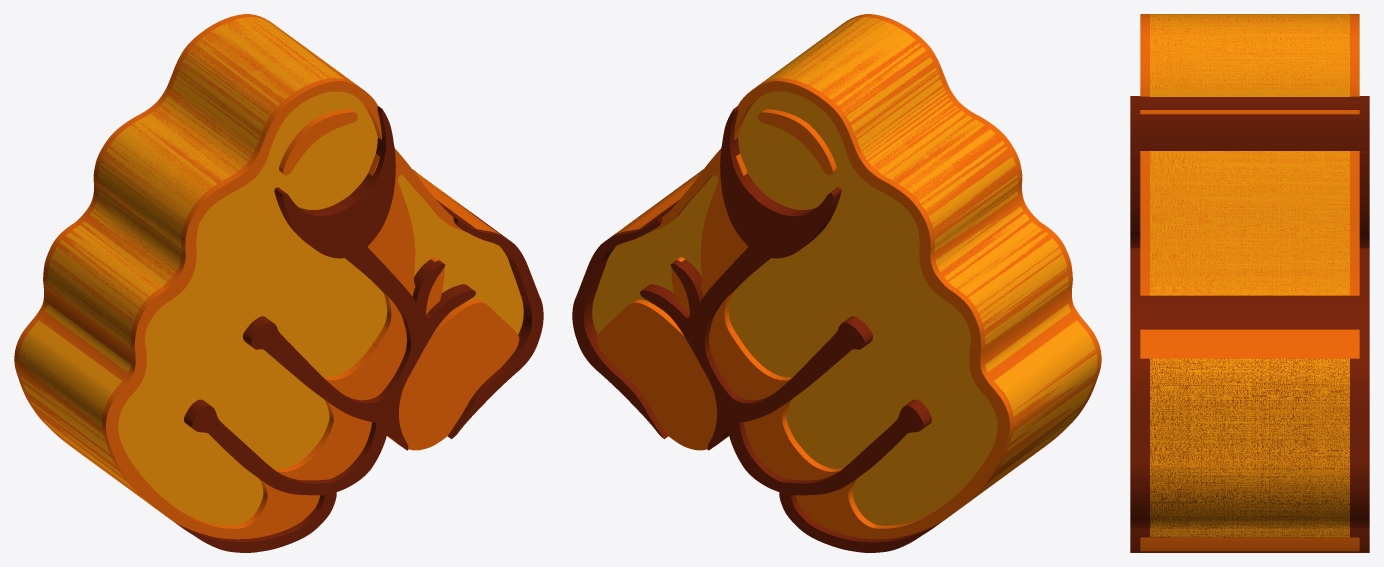
File: U+1FAF5.obj
The picture shows the model from 3 angles, left to right: view 1: azimuth 30°, elevation 25°; view 2: azimuth 150°, elevation 25°; view 3: azimuth 270°, elevation 25°; orthographic projection. The views are drawn at different scales.
Parts seen in each view (by area): view 1: U+1FAF5_layer00_obj00, U+1FAF5_layer01_obj00, U+1FAF5_layer02_obj01, U+1FAF5_layer02_obj00, U+1FAF5_layer01_obj01; view 2: U+1FAF5_layer00_obj00, U+1FAF5_layer01_obj00, U+1FAF5_layer02_obj01, U+1FAF5_layer02_obj00, U+1FAF5_layer01_obj01; view 3: U+1FAF5_layer00_obj00, U+1FAF5_layer02_obj00, U+1FAF5_layer01_obj00, U+1FAF5_layer02_obj01.
Part boxes in pixels (x1,y1,x2,y2): U+1FAF5_layer00_obj00: [18, 17, 523, 525]; U+1FAF5_layer01_obj00: [14, 14, 519, 539]; U+1FAF5_layer02_obj01: [174, 106, 475, 552]; U+1FAF5_layer02_obj00: [412, 169, 543, 439]; U+1FAF5_layer01_obj01: [279, 109, 357, 175]; U+1FAF5_layer00_obj00: [592, 17, 1097, 525]; U+1FAF5_layer01_obj00: [596, 14, 1101, 539]; U+1FAF5_layer02_obj01: [640, 106, 941, 552]; U+1FAF5_layer02_obj00: [572, 169, 703, 439]; U+1FAF5_layer01_obj01: [758, 109, 836, 175]; U+1FAF5_layer00_obj00: [1150, 14, 1349, 537]; U+1FAF5_layer02_obj00: [1130, 295, 1369, 552]; U+1FAF5_layer01_obj00: [1140, 14, 1359, 551]; U+1FAF5_layer02_obj01: [1130, 96, 1369, 295].
Size of the model in its own units: 0.3003 by 0.2975 by 0.12.
